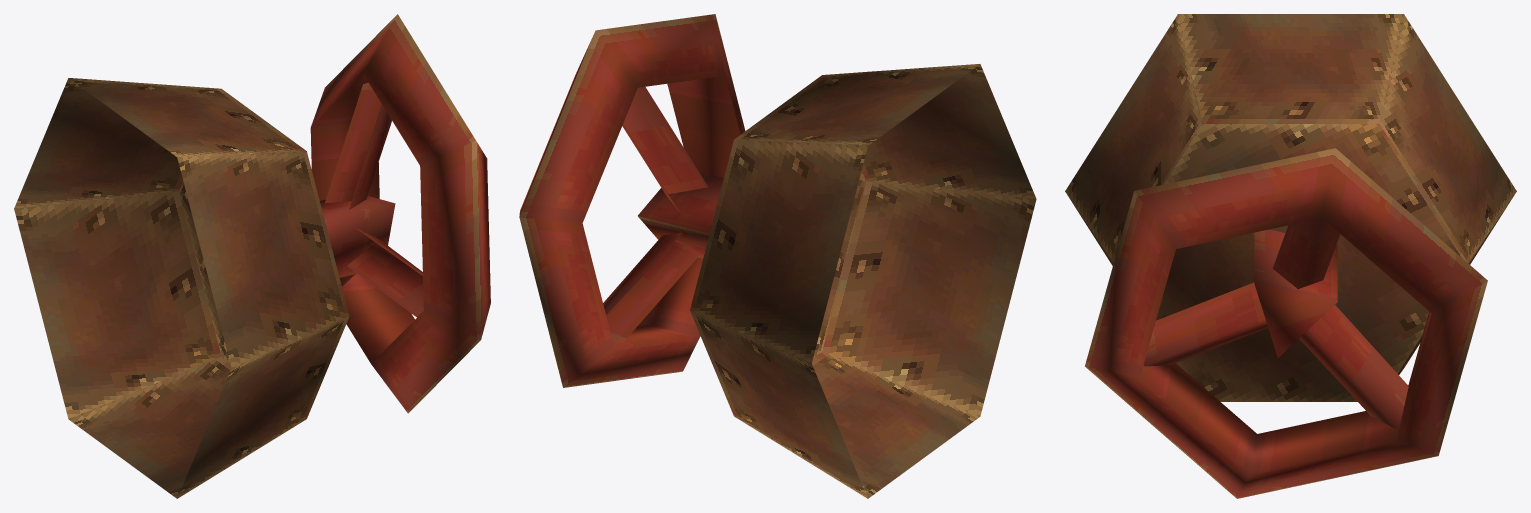
Rendered from deadminevalvewaterdrip.obj.
3 renders of one model, left to right at view 1: azimuth 30°, elevation 25°; view 2: azimuth 150°, elevation 25°; view 3: azimuth 270°, elevation 25°, orthographic. The views are drawn at different scales.
Parts seen in each view (by area): view 1: deadminevalvewaterdrip; view 2: deadminevalvewaterdrip; view 3: deadminevalvewaterdrip.
Boxes of the visible parts, x1=… form: deadminevalvewaterdrip: x1=14, y1=14, x2=490, y2=498; deadminevalvewaterdrip: x1=519, y1=14, x2=1036, y2=498; deadminevalvewaterdrip: x1=1065, y1=14, x2=1516, y2=498.
Bounding box in the file's own units: 0.5102 × 0.5389 × 0.5951.
Materials: 1 (1 with a texture image).
